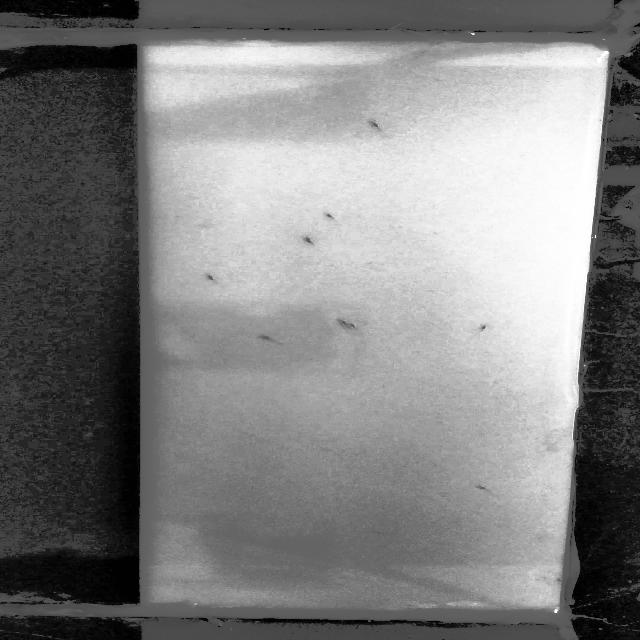shrimp: (356, 112, 392, 134), (246, 331, 284, 347), (463, 478, 496, 496), (191, 268, 220, 287), (308, 208, 344, 222), (290, 230, 317, 248), (348, 316, 369, 337), (469, 324, 497, 337), (334, 314, 349, 331), (371, 528, 390, 536)
